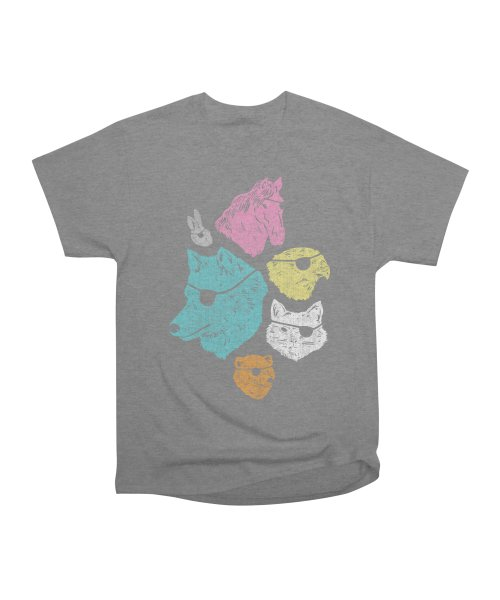design: (162, 172, 334, 403)
